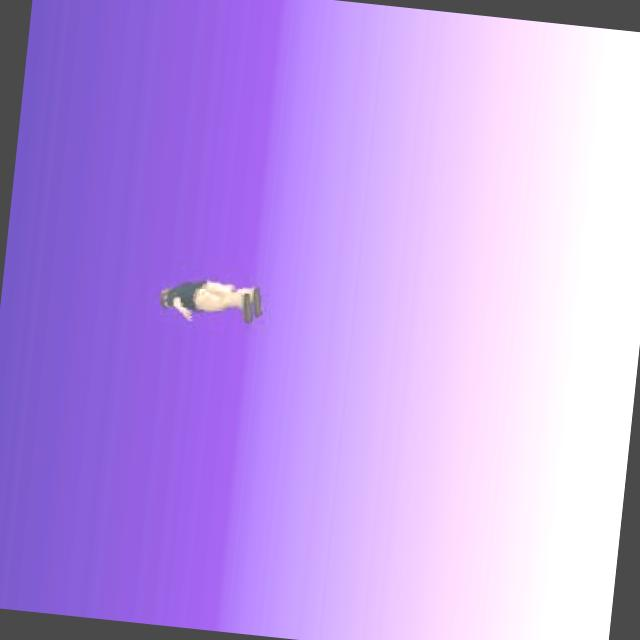Person: (156, 272, 266, 330)
